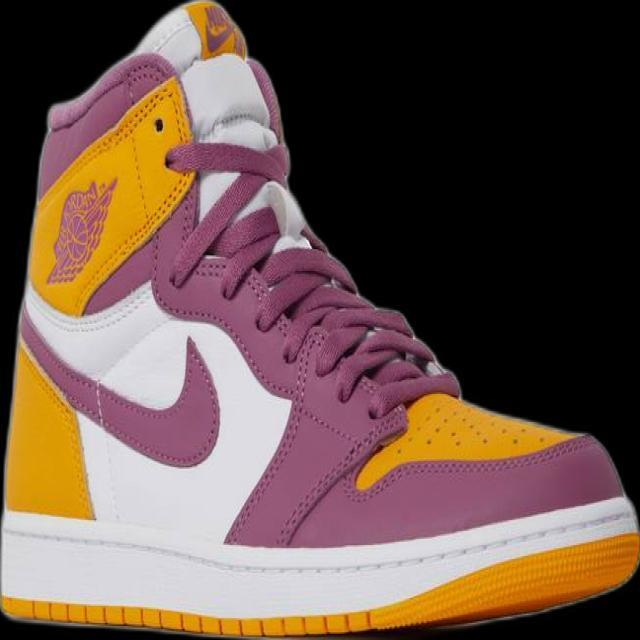J1_InsoleChar: (0, 0, 639, 639)
J1_ShoeLogo: (31, 52, 197, 316), (43, 175, 118, 286)
J1_StitchPattern: (156, 53, 461, 544), (1, 501, 638, 636), (206, 202, 451, 408), (351, 390, 590, 491), (255, 245, 413, 388), (1, 595, 373, 638), (412, 401, 543, 452), (184, 0, 247, 61)
